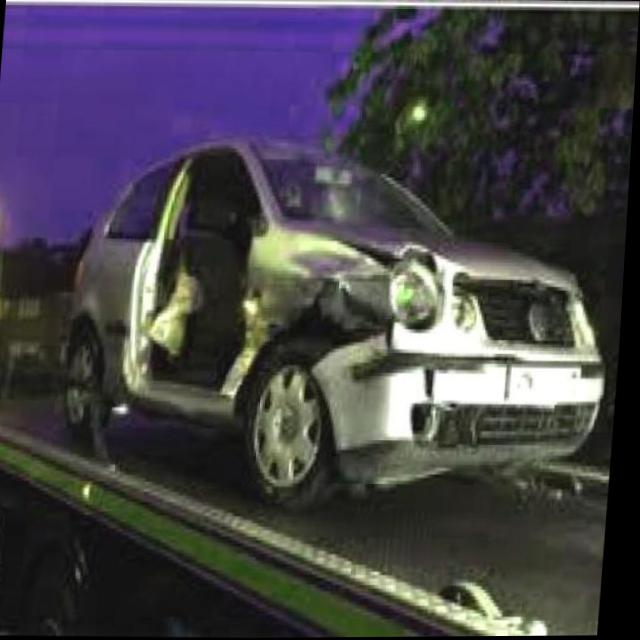Car-Damage: (116, 144, 542, 497)
